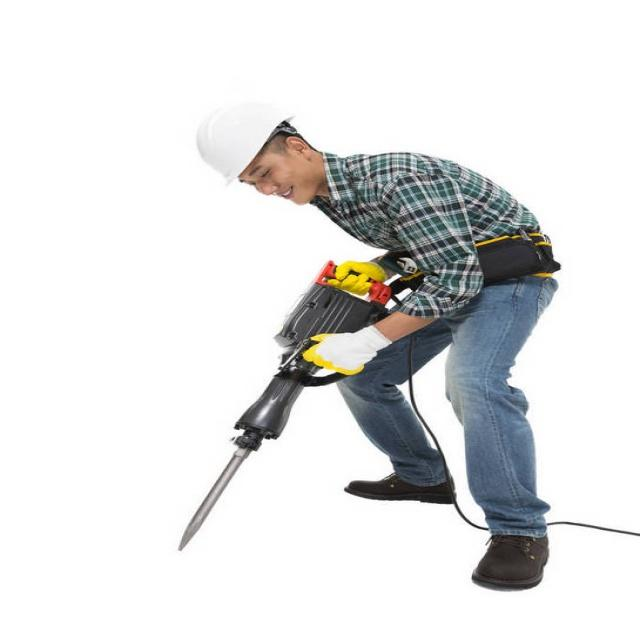helmet: (192, 136, 322, 276)
